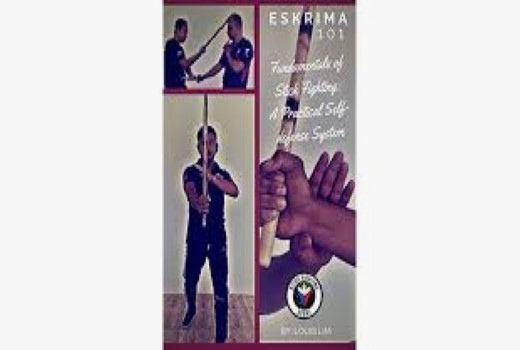baston_e: (256, 16, 321, 243), (200, 99, 209, 218), (203, 21, 230, 39)
baston_v: (255, 215, 288, 274), (196, 209, 214, 230), (197, 90, 215, 101)
